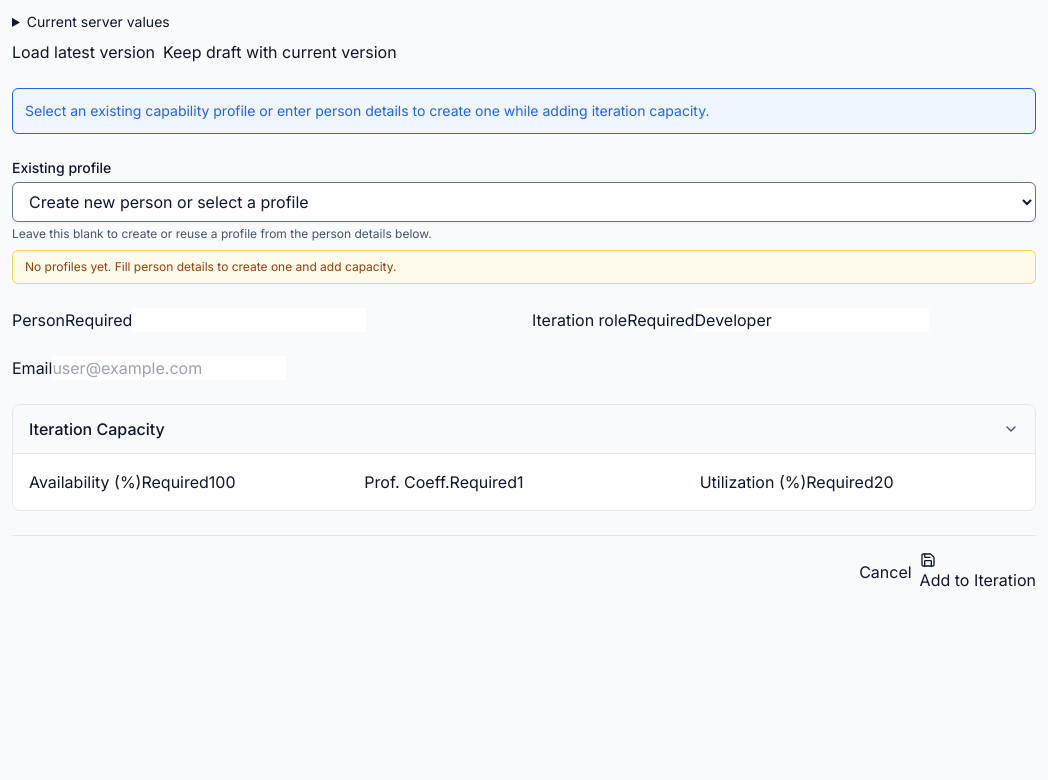
Test: TeamForm › announces mutation failures while preserving the editable draft
In the field labelled "Person": (249, 320) [132, 308, 366, 332], type "Duplicate Person"
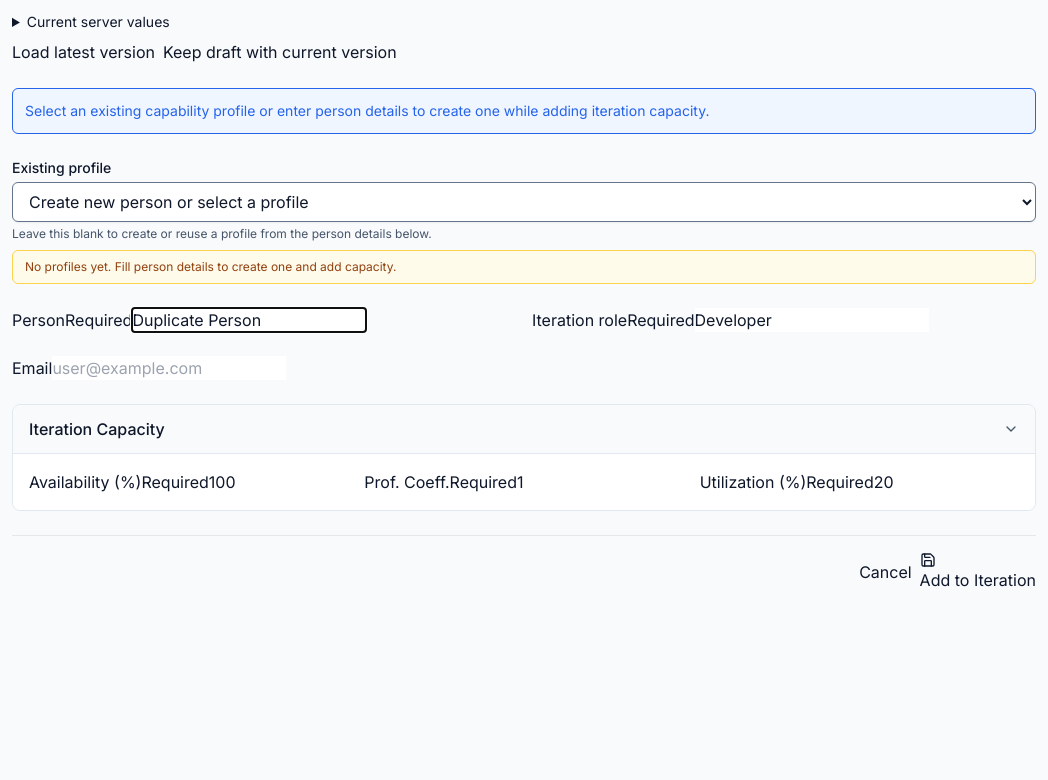
Click the button "Add to Iteration": (978, 572) [920, 552, 1036, 592]
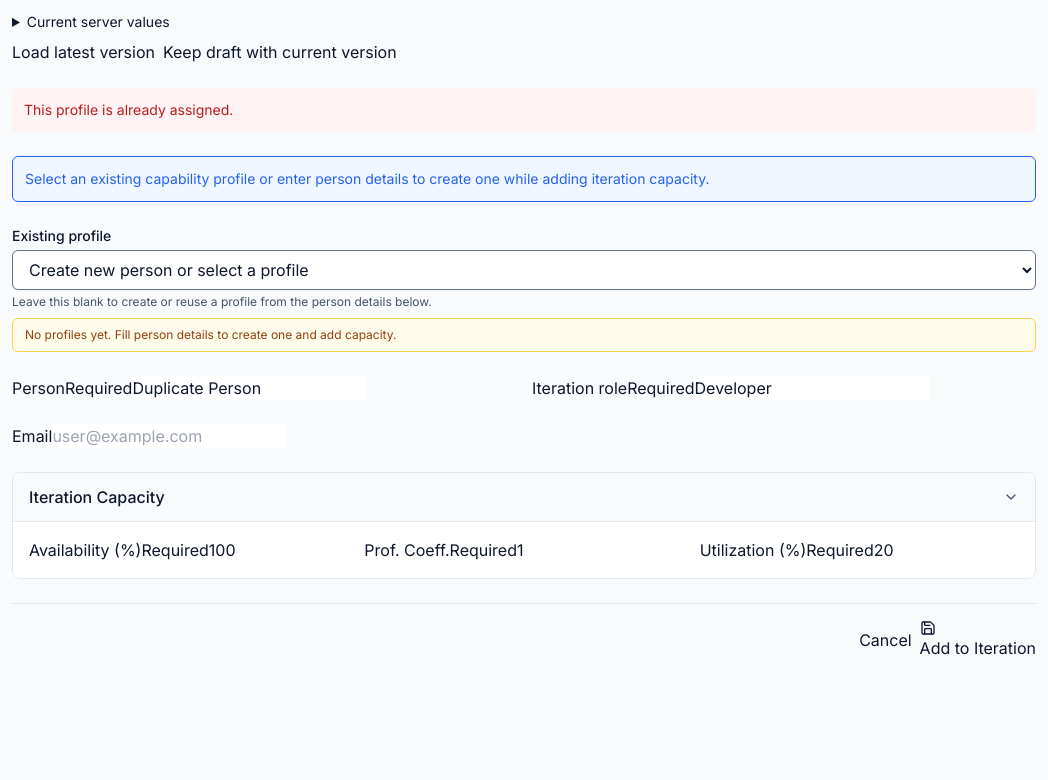
Expected: the field labelled "Person" is enabled, [132, 376, 366, 400]
Expected: the message reads "This profile is already assigned.", [24, 101, 233, 118]
